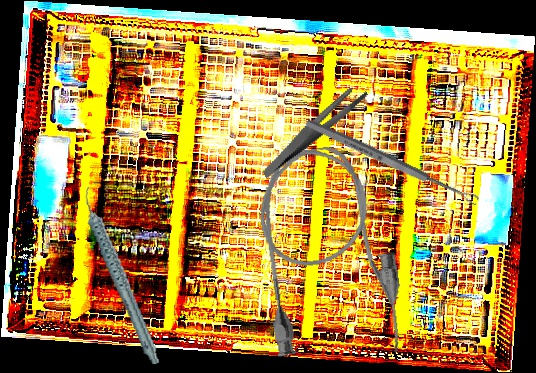Cannula: (247, 139, 410, 370)
Dressing Forceps: (246, 82, 382, 179)
Handpiece: (81, 180, 162, 371)
Surgical Spoon: (304, 116, 480, 208)
